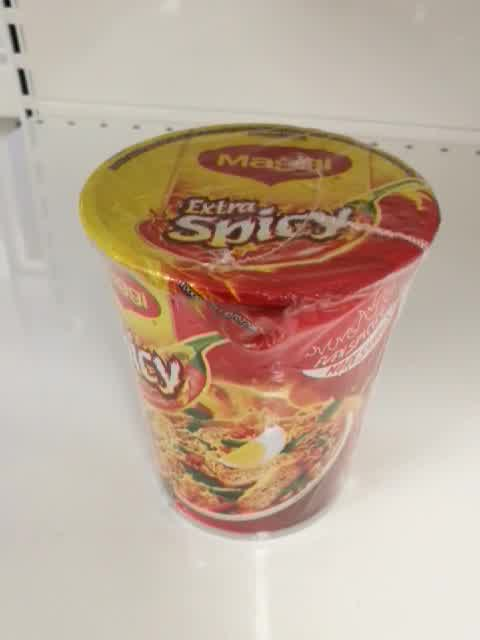maggi: (76, 122, 442, 542)
